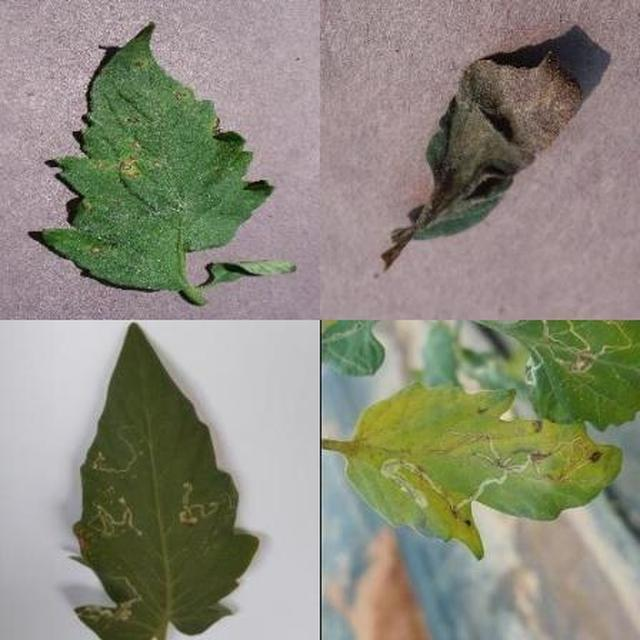Septoria Leaf: (222, 205, 640, 640)
